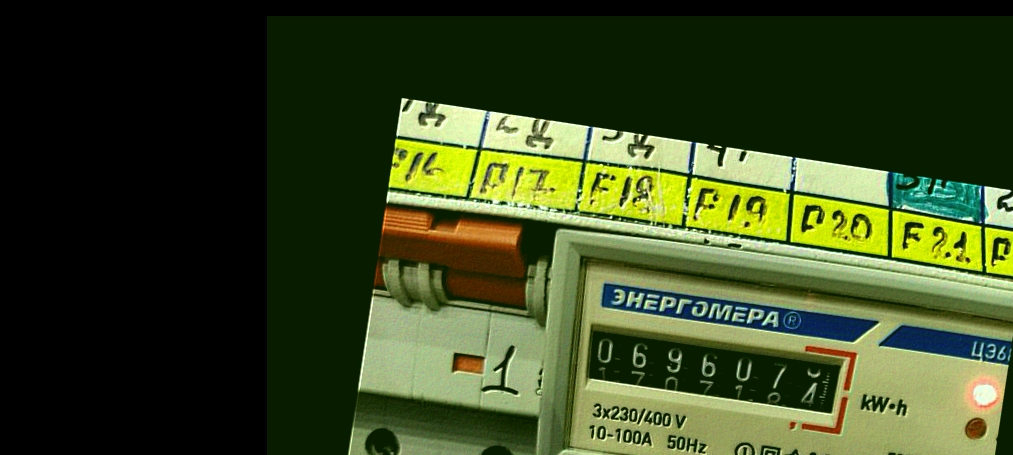0: (594, 335, 619, 368), (734, 353, 757, 386)
4: (798, 379, 821, 410)
6: (628, 339, 654, 372), (700, 350, 723, 380)
7: (769, 359, 790, 392)
9: (665, 346, 687, 377)
screen: (566, 305, 861, 436)
